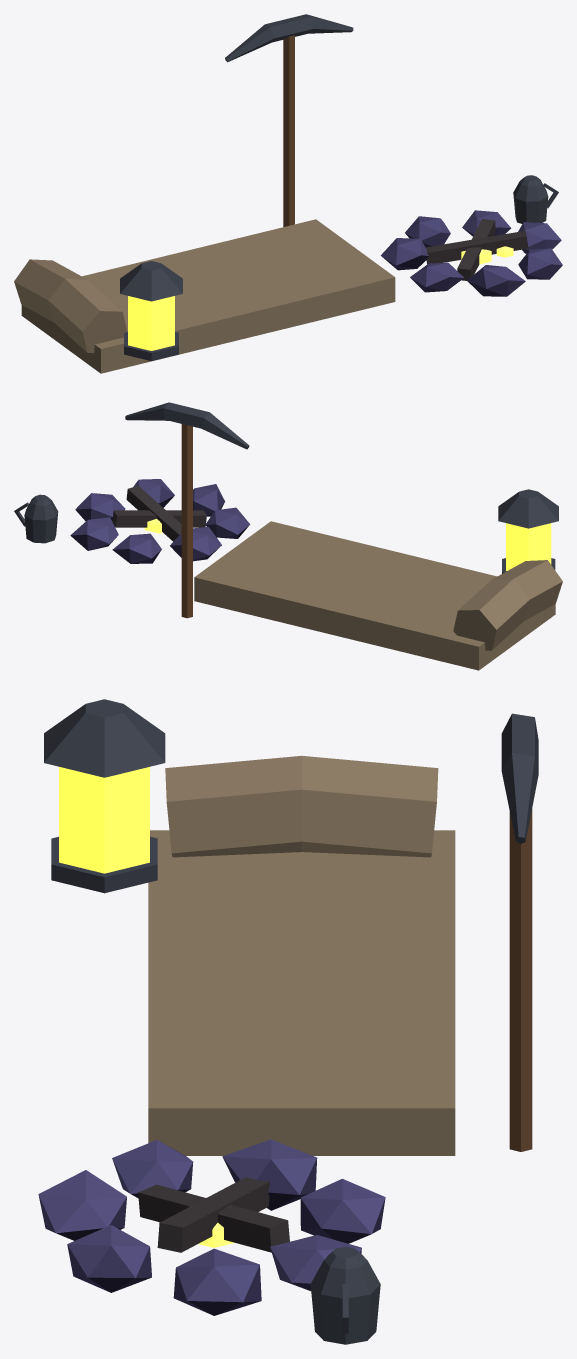
The model's file is Mine_AbandonedCamp.fbx.
3 views of the same model, one above another, from view 1: azimuth 30°, elevation 25°; view 2: azimuth 150°, elevation 25°; view 3: azimuth 270°, elevation 25° (orthographic). The views are drawn at different scales.
Visible parts, largest first — view 1: Mine_AbandonedCamp_Body; view 2: Mine_AbandonedCamp_Body; view 3: Mine_AbandonedCamp_Body.
Part boxes in pixels (x1,y1,x2,y2): Mine_AbandonedCamp_Body: [14, 14, 562, 373]; Mine_AbandonedCamp_Body: [14, 402, 562, 670]; Mine_AbandonedCamp_Body: [38, 699, 538, 1344].
Size of the model in its own units: 2.66 by 1.04 by 1.14.
